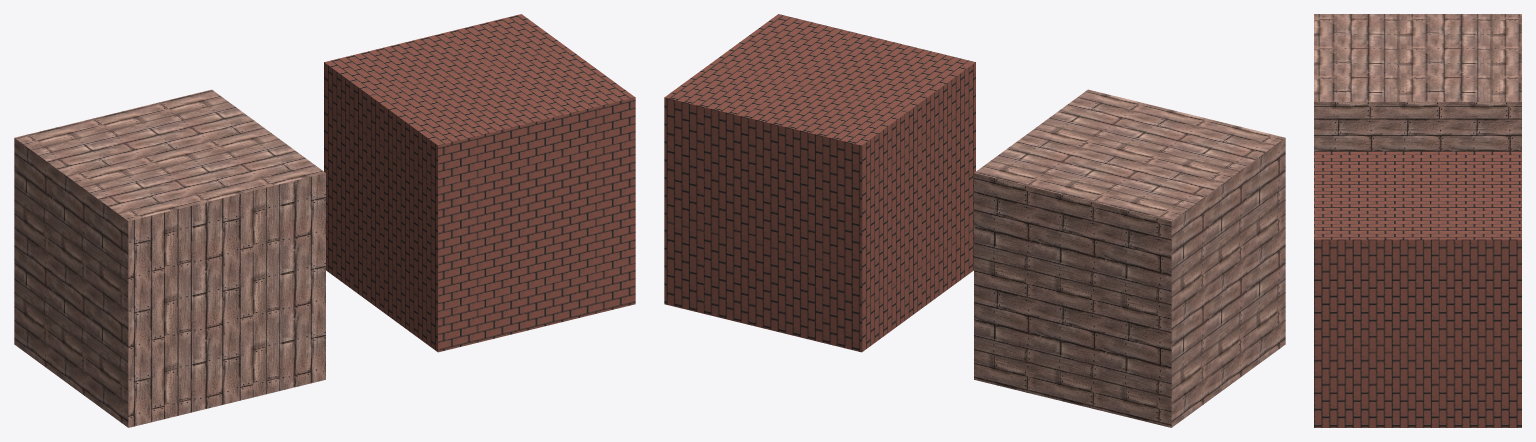
Rendered from damn thing.fbx.
The picture shows the model from 3 angles, left to right: view 1: azimuth 30°, elevation 25°; view 2: azimuth 150°, elevation 25°; view 3: azimuth 270°, elevation 25°; orthographic projection. The views are drawn at different scales.
Visible parts, largest first — view 1: Cube, Cube.001; view 2: Cube, Cube.001; view 3: Cube.001, Cube.
Part boxes in pixels (<box>): Cube: <box>14,89,325,427</box>; Cube.001: <box>324,14,635,352</box>; Cube: <box>974,89,1285,427</box>; Cube.001: <box>664,14,975,352</box>; Cube.001: <box>1314,151,1521,427</box>; Cube: <box>1314,14,1521,151</box>.
Bounding box in the file's own units: 513 × 200 × 200.
2 materials, 2 textured.
